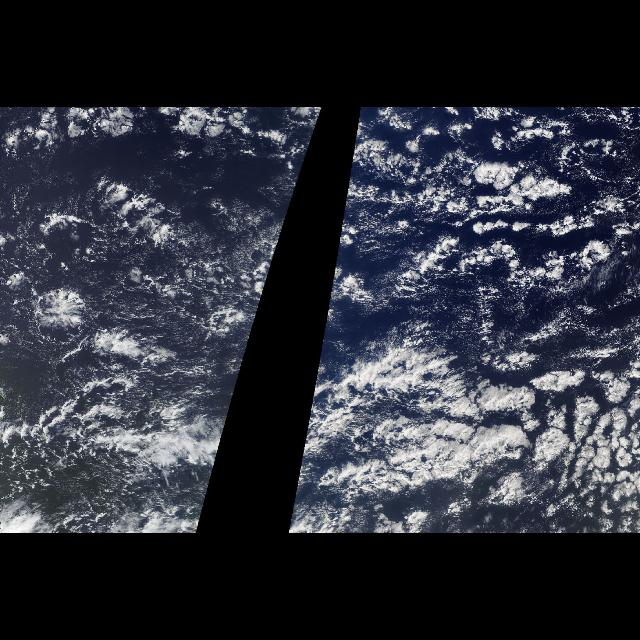Fish: (14, 328, 256, 492), (294, 328, 522, 492)
Flower: (504, 350, 640, 520)
Gravel: (60, 205, 242, 425)
